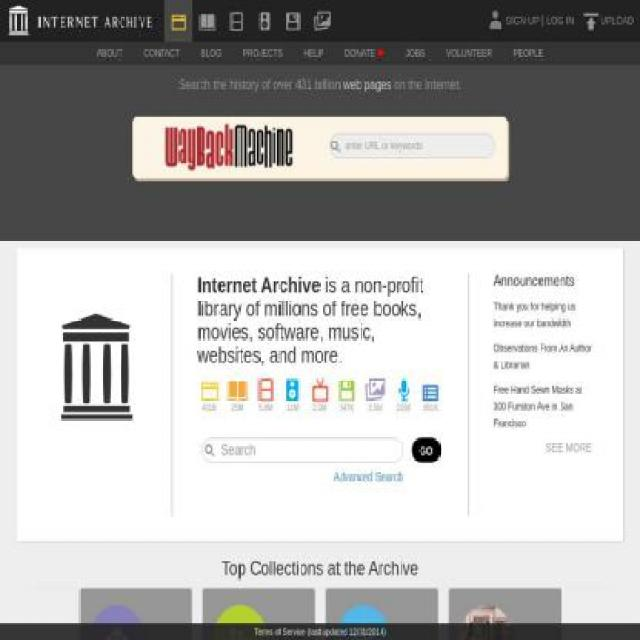button: (135, 122, 320, 173), (333, 468, 404, 486), (582, 9, 635, 33), (412, 438, 441, 462), (503, 13, 542, 29), (445, 48, 493, 61), (224, 375, 250, 399), (362, 375, 388, 399), (308, 375, 332, 399), (392, 375, 416, 399), (255, 375, 278, 399), (242, 48, 284, 61), (543, 13, 577, 29), (198, 375, 220, 399), (282, 375, 304, 399), (336, 375, 358, 399), (420, 375, 442, 399), (344, 48, 384, 61), (143, 48, 180, 61), (513, 48, 544, 61), (96, 48, 124, 61), (200, 48, 222, 61), (405, 48, 426, 61), (304, 48, 324, 61)
field: (202, 438, 403, 462), (330, 134, 495, 158)
